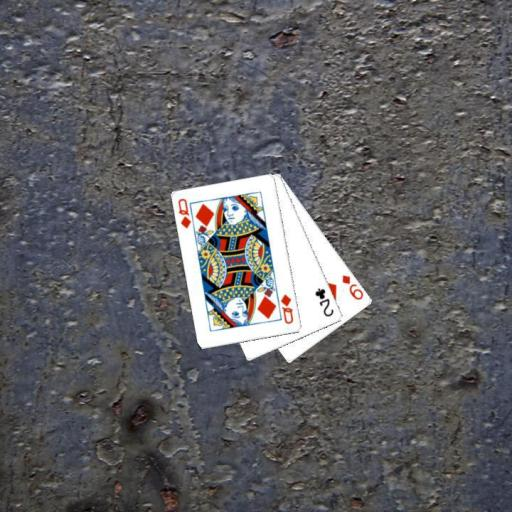2C: (312, 285, 336, 319)
9D: (339, 272, 366, 302)
QD: (277, 291, 295, 326), (175, 196, 193, 231)
